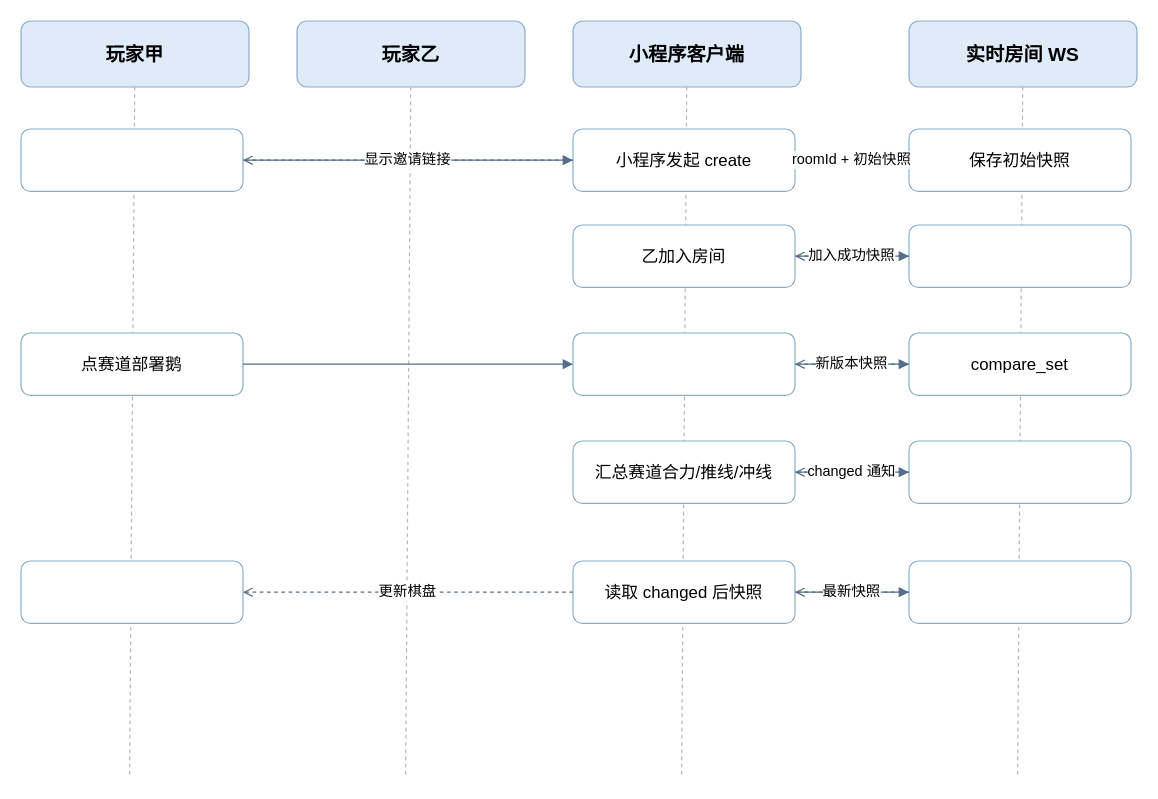
Some shapes in this 1158 by 799 pixel diagram are drawn without their labels. Here are the shapes that lost their labels. From the top down, the centre of each, then its label:
point (131, 159): 甲创建房间
point (1019, 255): 返回共享快照
point (683, 363): CAS 写入部署事件
point (1019, 471): compare_set + changed
point (131, 591): 查看统一状态
point (1019, 591): snapshot
